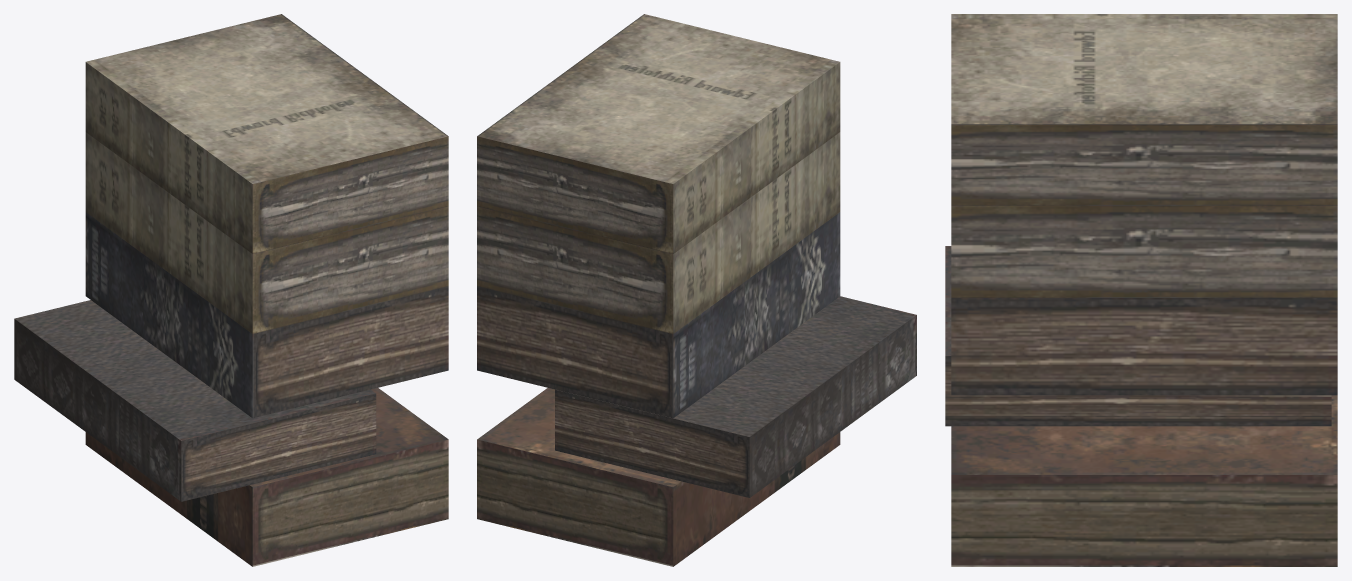
Rendered from p_glo_books_row03_LOD1.obj.
The picture shows the model from 3 angles, left to right: view 1: azimuth 30°, elevation 25°; view 2: azimuth 150°, elevation 25°; view 3: azimuth 270°, elevation 25°; orthographic projection. The views are drawn at different scales.
Parts seen in each view (by area): view 1: mtl_p_glo_books; view 2: mtl_p_glo_books; view 3: mtl_p_glo_books.
Boxes of the visible parts, x1,y1,x2,y2 form: mtl_p_glo_books: (14, 14, 448, 566); mtl_p_glo_books: (477, 14, 916, 566); mtl_p_glo_books: (945, 14, 1337, 566).
Bounding box in the file's own units: 19.09 × 25.86 × 20.77.
